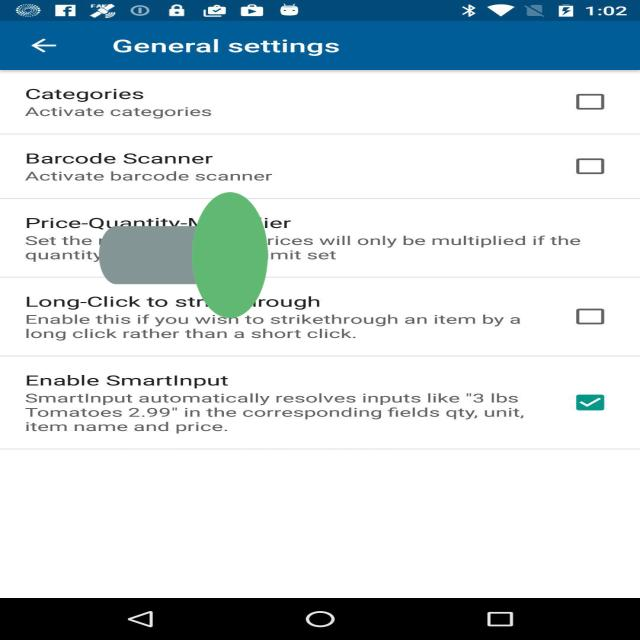social proof: (99, 114, 268, 396)
